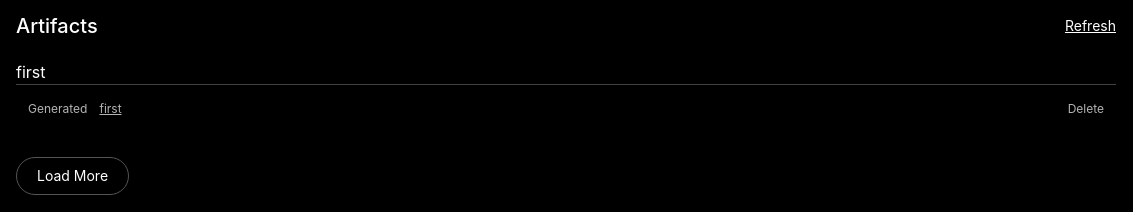
Scenario: loads one indexed page, appends Load More, and refreshes from the first page
Expected: the number of elements with class "artifact-card" is 1, [16,60,1116,133]
Step 1. Click the button "Load More" → [73, 176], box [16,157,129,195]
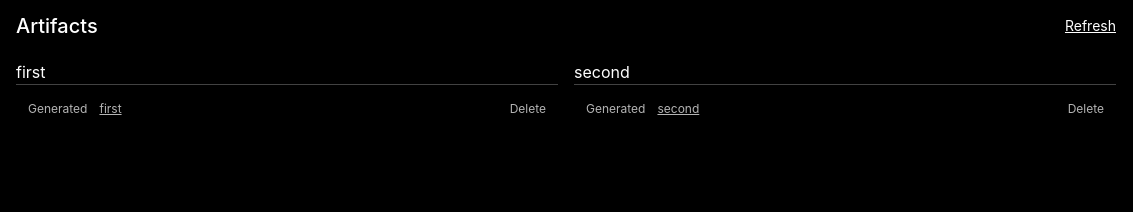
Expected: the number of elements with class "artifact-card" is 2, [16,60,558,133]; [574,60,1116,133]
Step 2. Click the button "Refresh" → [1090, 26], box [1065,16,1116,36]
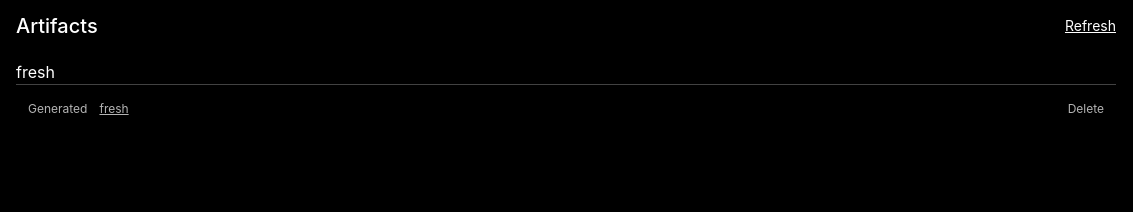
Expected: the number of elements with class "artifact-card" is 1, [16,60,1116,133]
